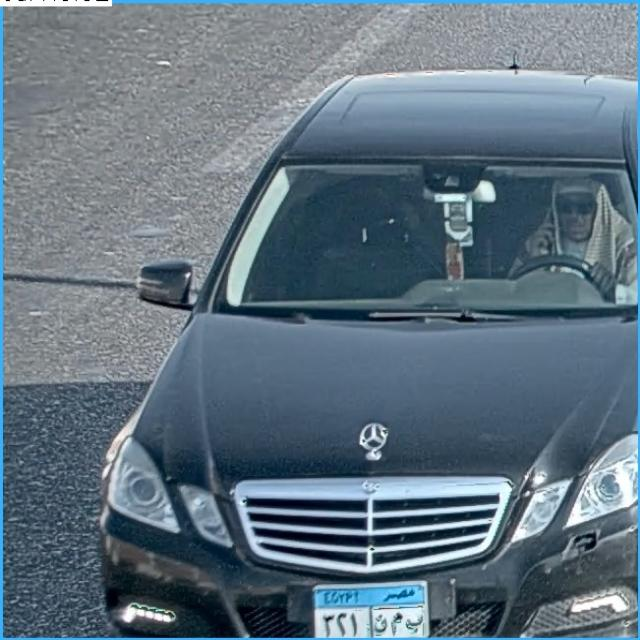windshield: (213, 161, 640, 319)
